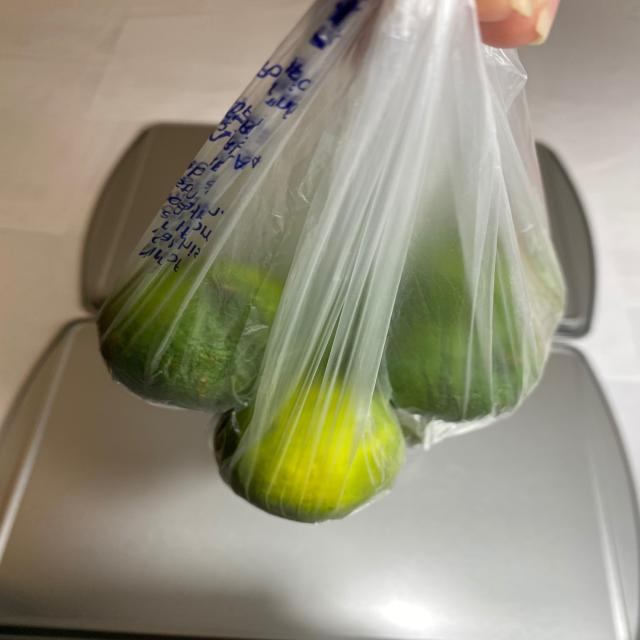lemon: (95, 209, 564, 529)
